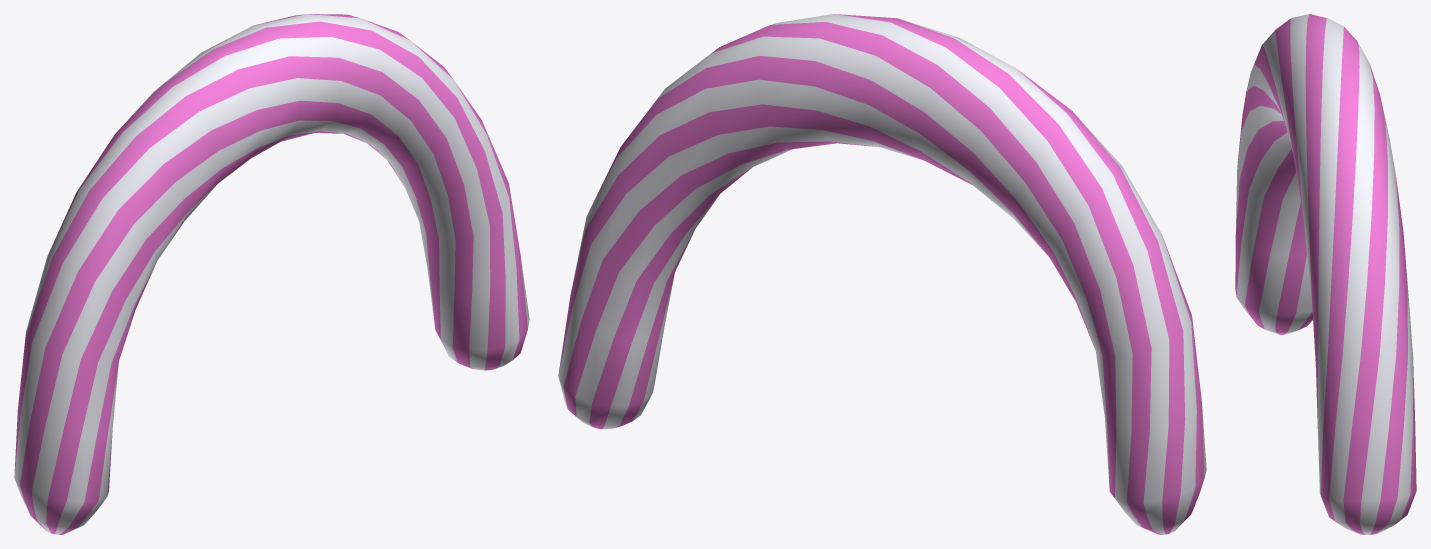
Rendered from candy_arch1.fbx.
The picture shows the model from 3 angles, left to right: view 1: azimuth 30°, elevation 25°; view 2: azimuth 150°, elevation 25°; view 3: azimuth 270°, elevation 25°; orthographic projection. The views are drawn at different scales.
Visible parts, largest first — view 1: candy_arch1; view 2: candy_arch1; view 3: candy_arch1.
Part boxes in pixels (bbox=[...]): candy_arch1: bbox=[14, 14, 529, 534]; candy_arch1: bbox=[558, 14, 1206, 534]; candy_arch1: bbox=[1235, 14, 1416, 534].
Bounding box in the file's own units: 897 × 682 × 277.
1 material, 1 textured.
